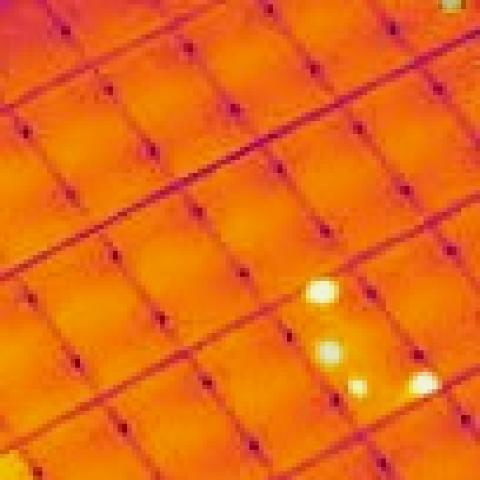fault: (320, 337, 344, 368), (306, 281, 339, 303), (410, 372, 438, 393), (348, 376, 367, 394), (438, 0, 466, 9)
